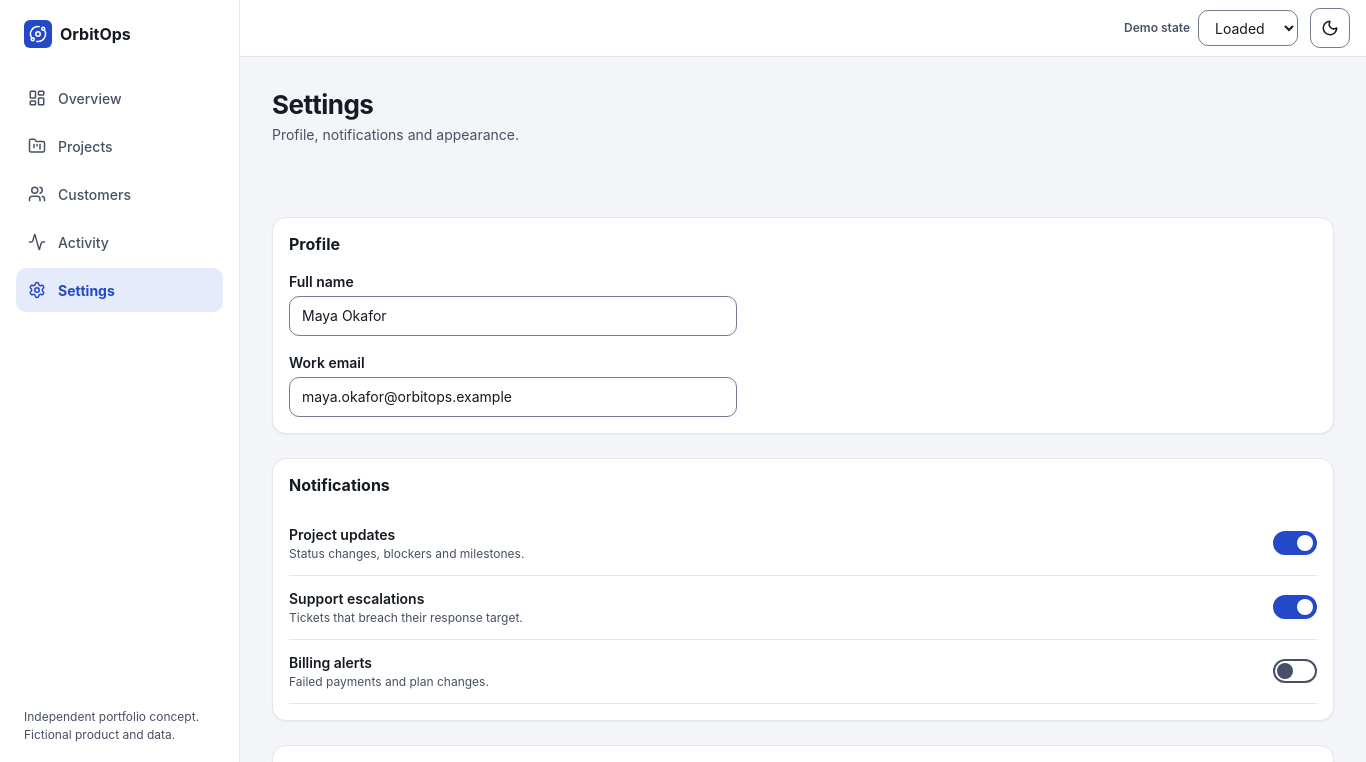
Scenario: settings › warns when every notification is off
Click the switch named "Project updates" in the row of "Status changes, blockers and milestones.": (1295, 543) [1273, 531, 1317, 555]
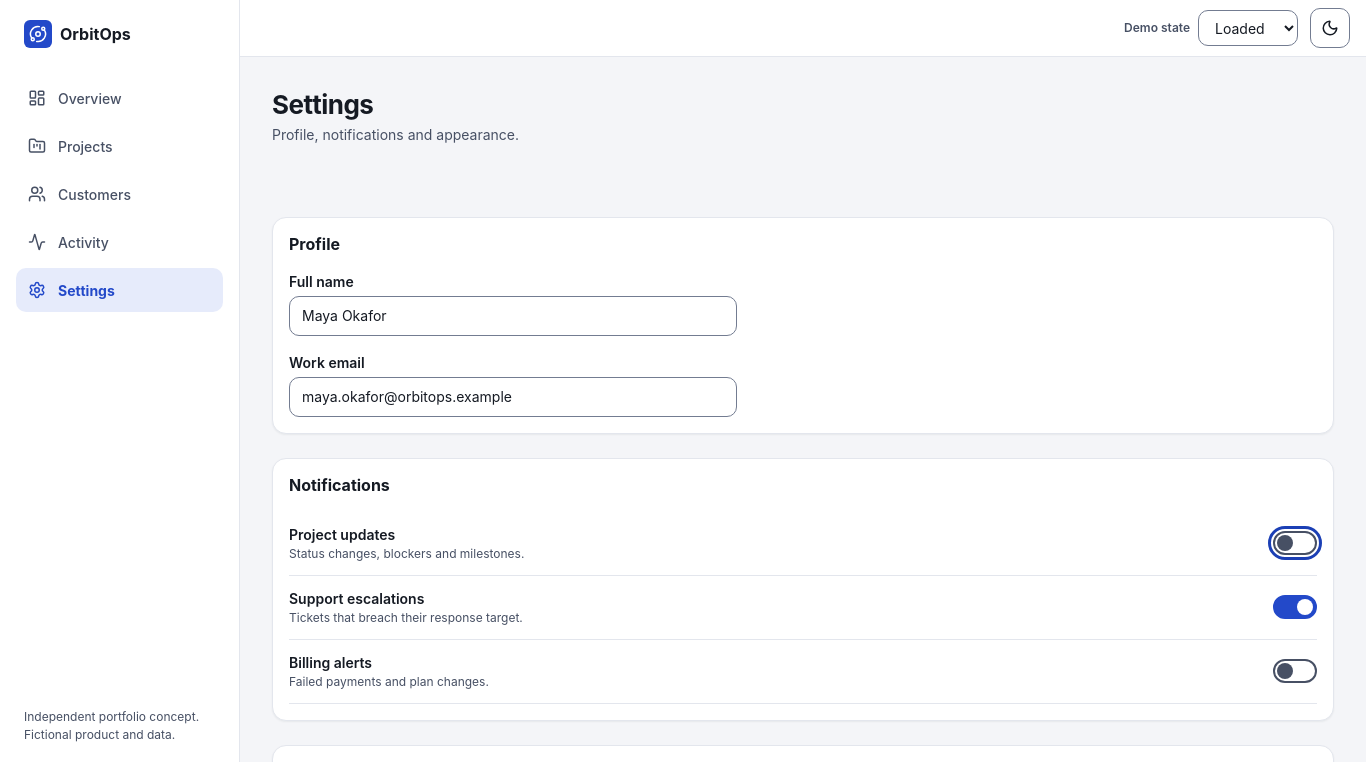
Click the switch named "Support escalations" in the row of "Support escalations": (1295, 607) [1273, 595, 1317, 619]
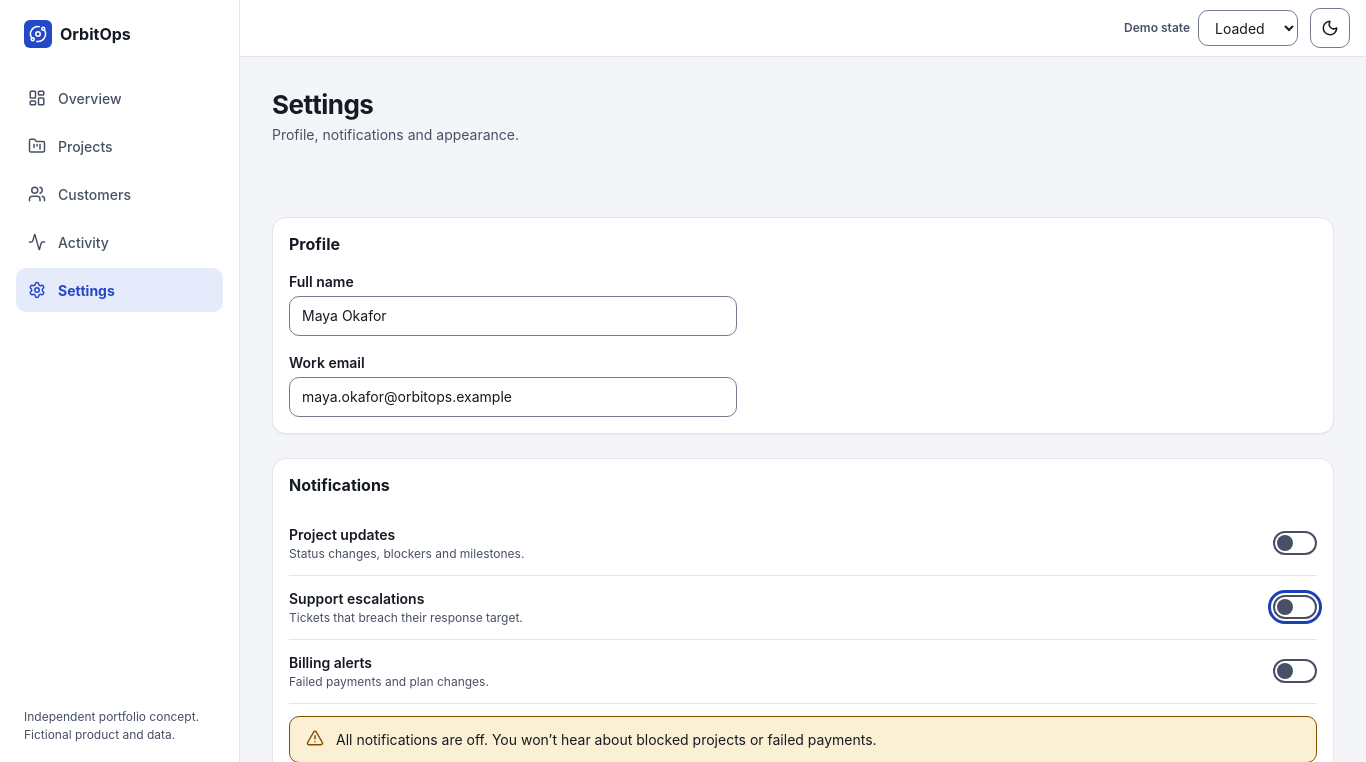
Check: the text "All notifications are off" is shown, box [336, 731, 877, 748]
